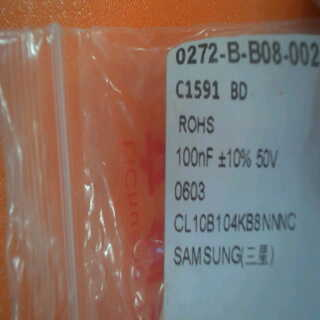100nF: (174, 144, 217, 171)
